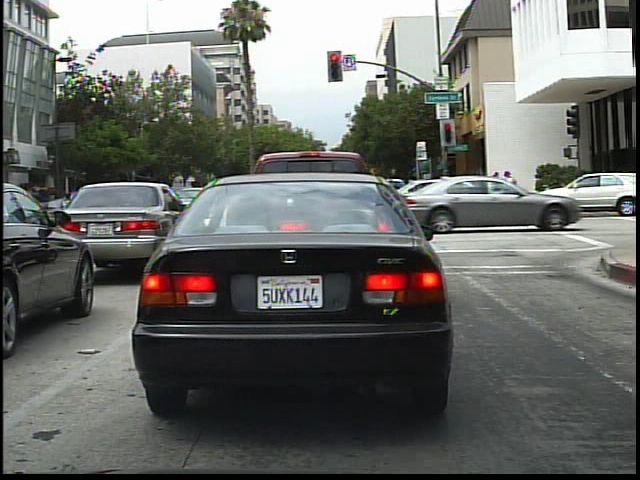person: (22, 176, 53, 210), (484, 168, 505, 210), (501, 165, 521, 209)
